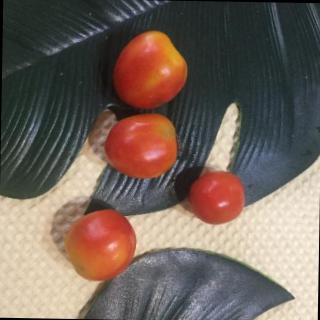Tomat: (107, 29, 191, 111), (61, 205, 140, 287), (96, 112, 185, 182), (186, 167, 253, 232)
